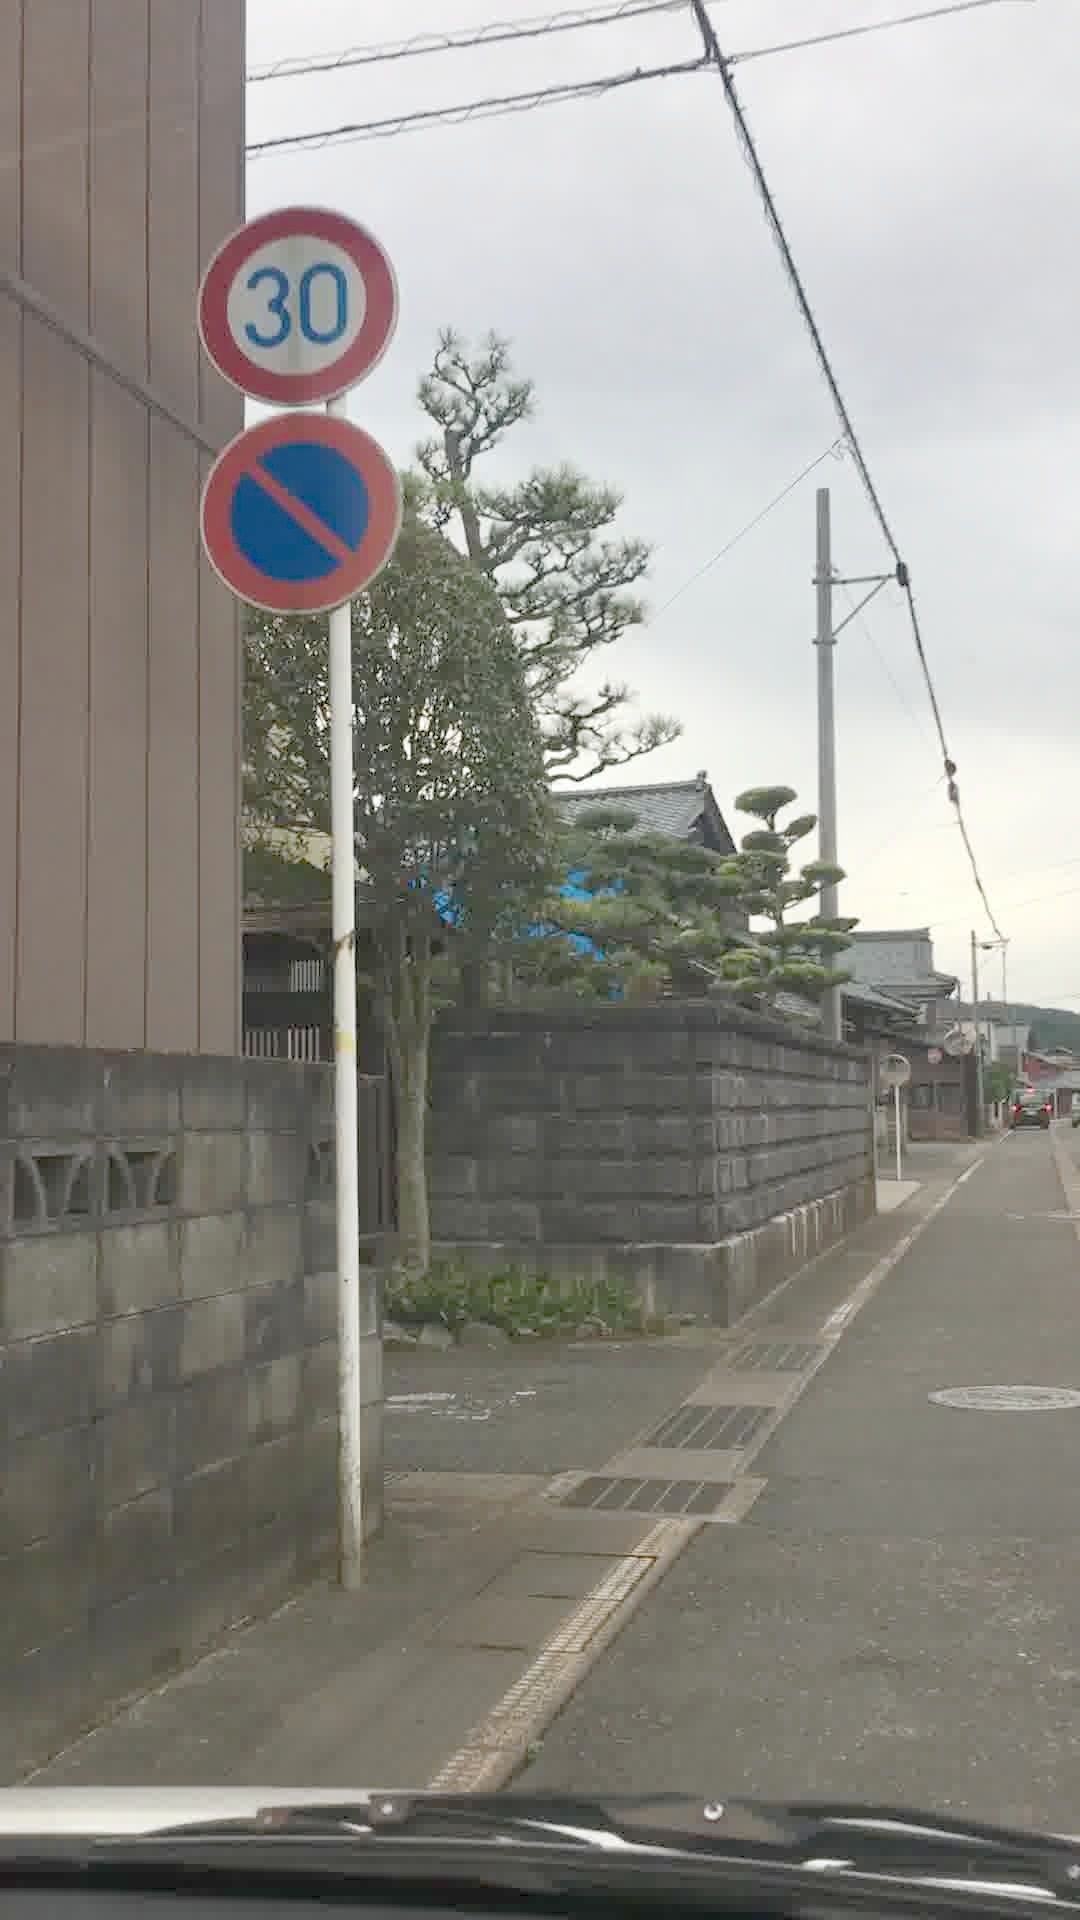Prohibition_sign: (194, 410, 430, 632)
Speed_sign: (170, 189, 436, 418)
